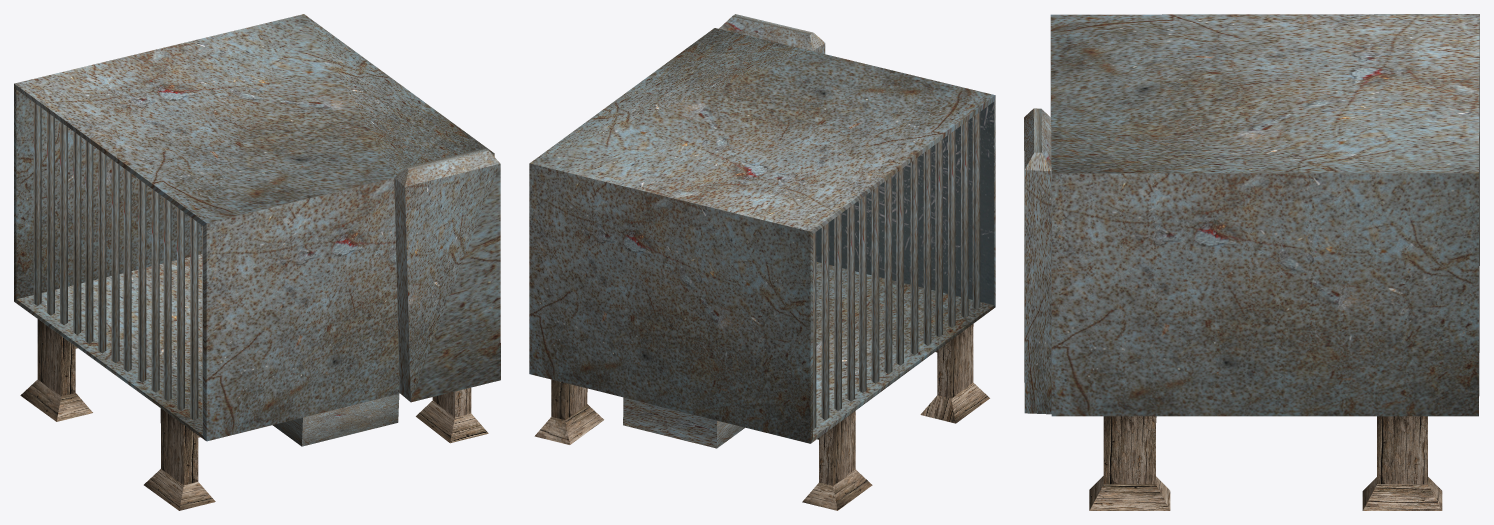
File: CageSTAND.FBX
3 renders of one model, left to right at view 1: azimuth 30°, elevation 25°; view 2: azimuth 150°, elevation 25°; view 3: azimuth 270°, elevation 25°, orthographic. The views are drawn at different scales.
Parts seen in each view (by area): view 1: Wagon; view 2: Wagon; view 3: Wagon.
Part boxes in pixels (x1,y1,x2,y2): Wagon: (14,14,500,510); Wagon: (529,14,995,510); Wagon: (1024,14,1479,510).
Bounding box in the file's own units: 54.43 × 51.46 × 61.44.
1 material, 1 textured.
